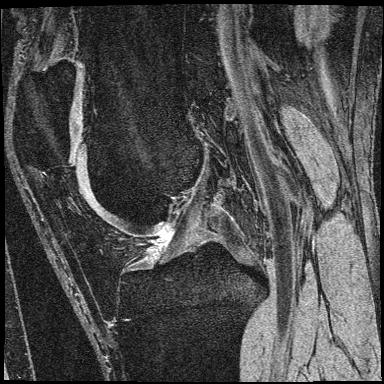SagKneeJointArea: (16, 58, 270, 331)
